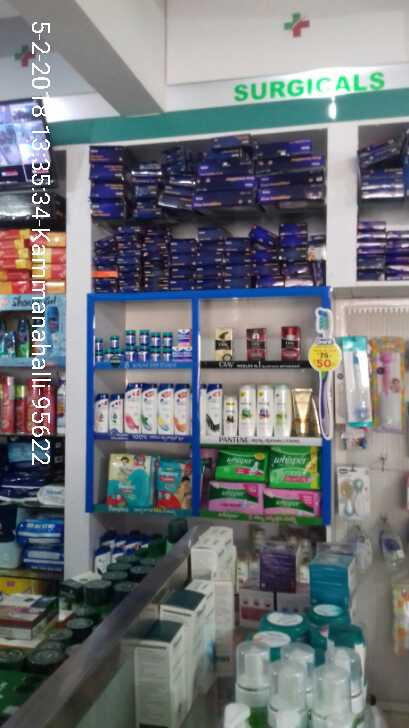beauty: (271, 385, 292, 438), (254, 384, 273, 440), (172, 384, 190, 436), (205, 378, 222, 432), (156, 382, 173, 436), (238, 389, 255, 438), (143, 384, 159, 436), (293, 391, 311, 436), (248, 325, 268, 362), (126, 383, 140, 432), (108, 394, 125, 432), (281, 327, 301, 357), (214, 330, 234, 359), (222, 394, 238, 430), (94, 394, 108, 432)
pharmacy: (109, 451, 151, 508), (270, 443, 319, 487), (263, 484, 326, 518), (208, 479, 267, 513), (156, 453, 188, 507), (219, 447, 269, 481), (161, 332, 175, 348), (148, 331, 161, 348), (107, 334, 121, 349), (124, 328, 135, 346), (140, 326, 147, 346)
